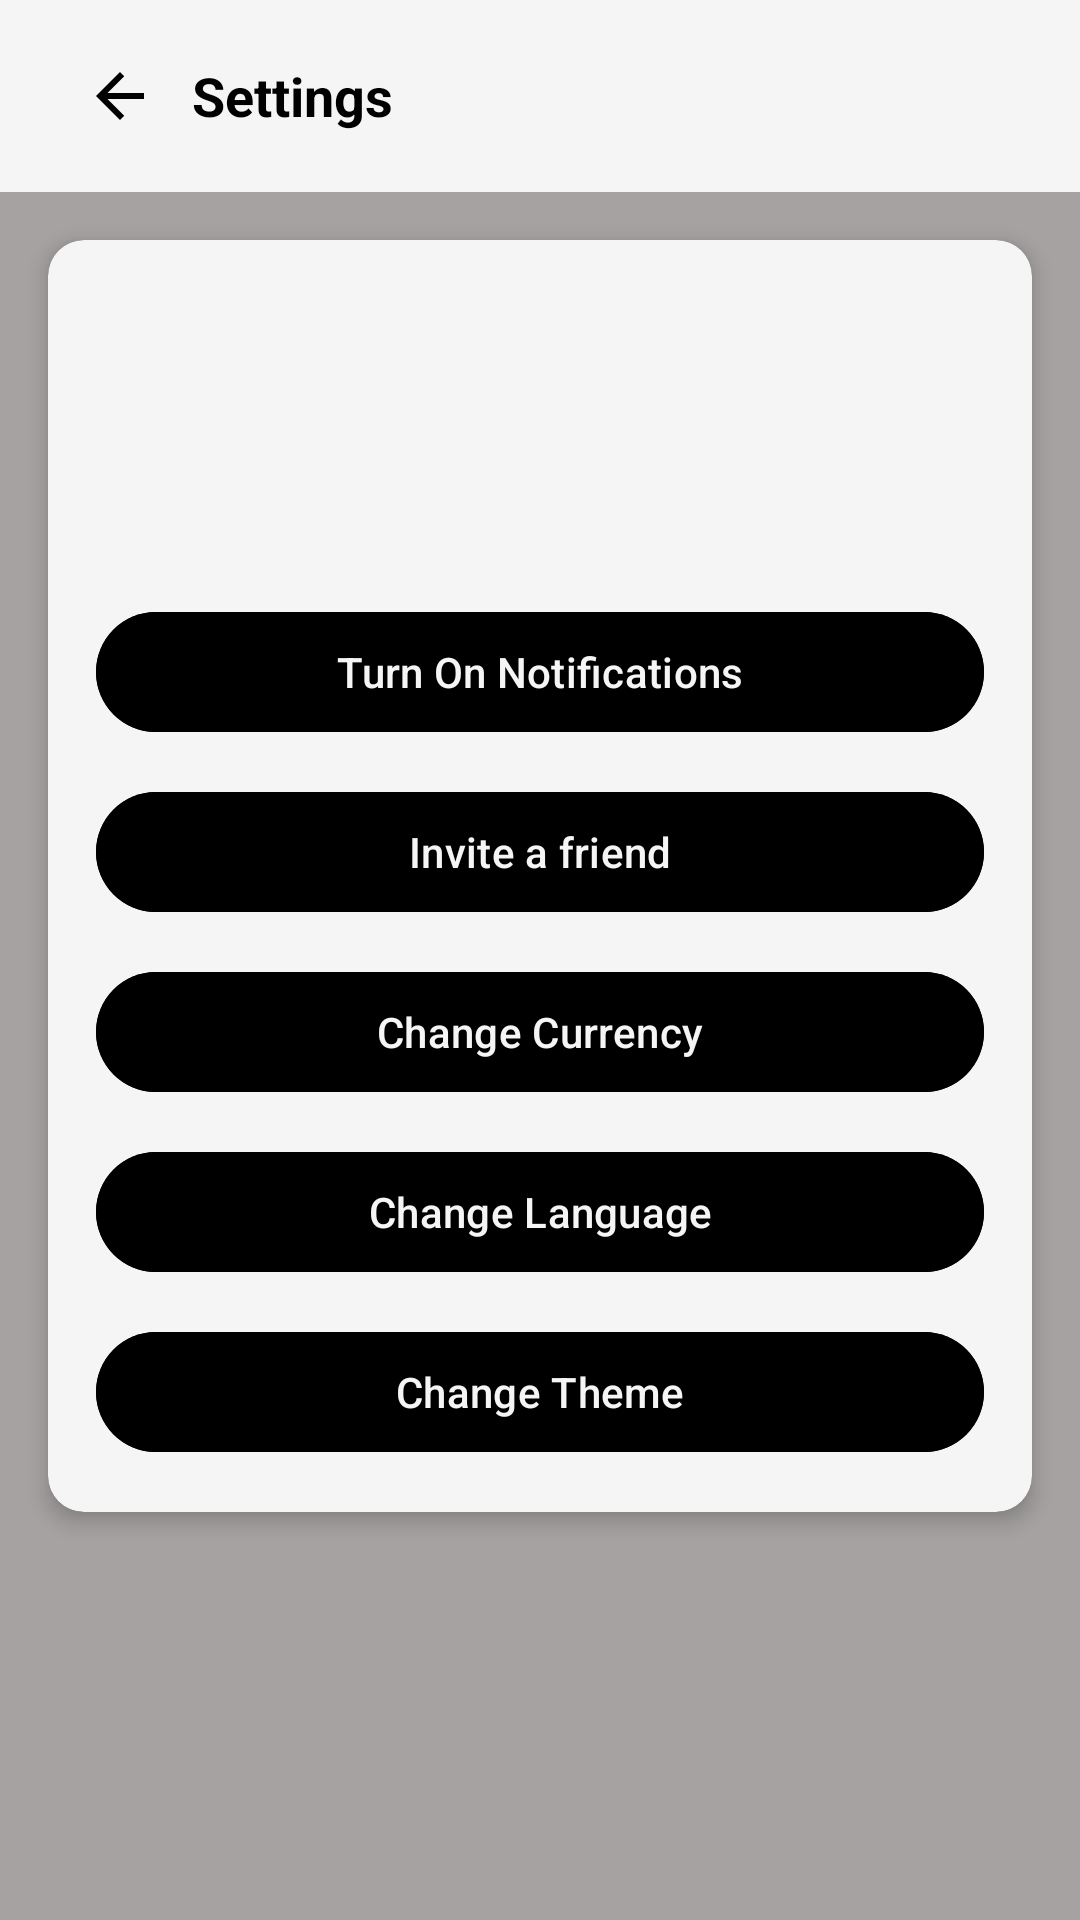

Icons on this 1080px×1920px Android screen, each with the point to tap as (x,y):
Back button: (120,96)
